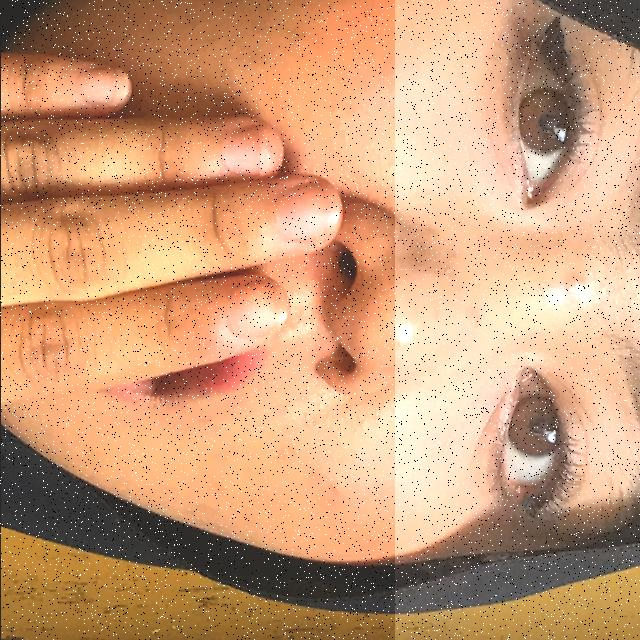ngantuk: (0, 0, 394, 640)
